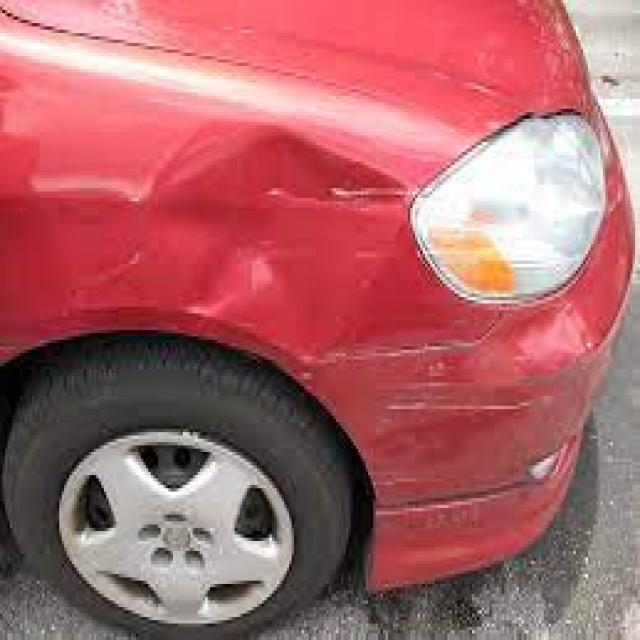minor: (176, 78, 546, 456)
